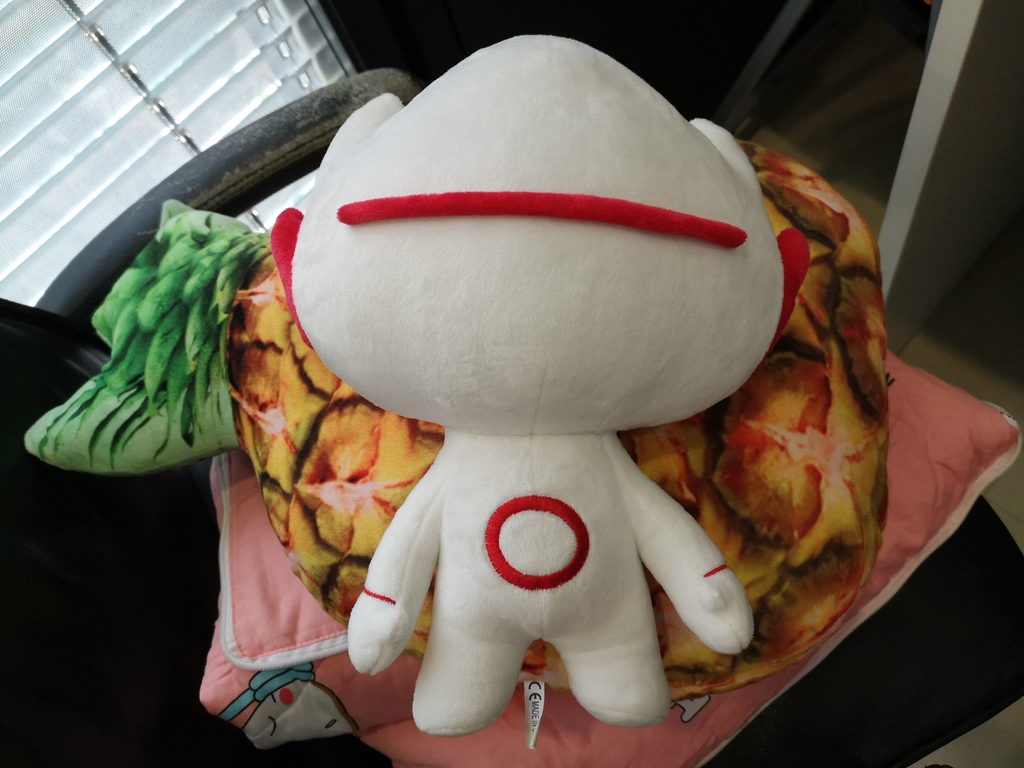yunbao: (294, 31, 801, 739)
